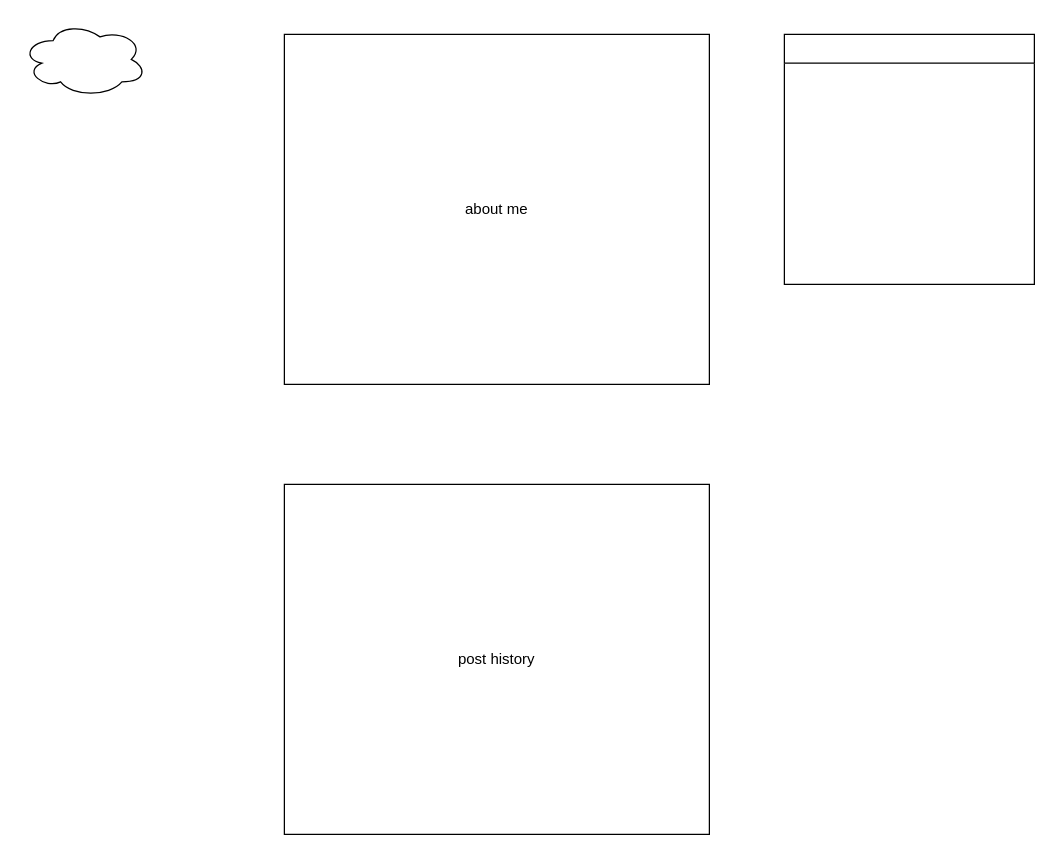
Image size: 1056x856. Some labels were removed from this diagram. The shapes that lost their labels are listed below. From the top down, each one's box as (x1, y1, x2, y2) in pixels, then its label:
(21, 21, 147, 97): profile pic
(783, 33, 1034, 284): Friends list
